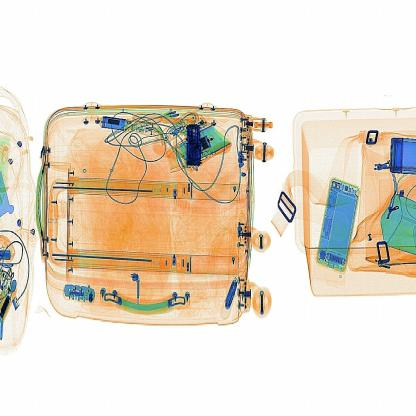scissors: (184, 121, 218, 174)
